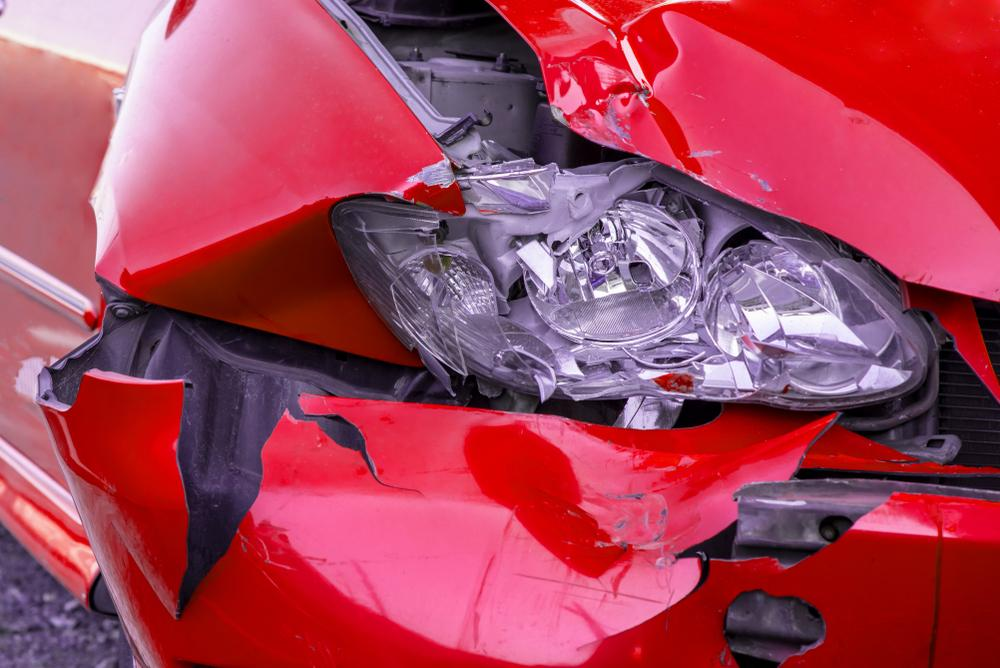crack: (171, 382, 424, 627), (666, 492, 894, 610), (929, 525, 945, 668)
dent: (259, 397, 830, 665), (120, 196, 409, 361), (531, 9, 702, 177)
lamp broken: (330, 139, 931, 406)
